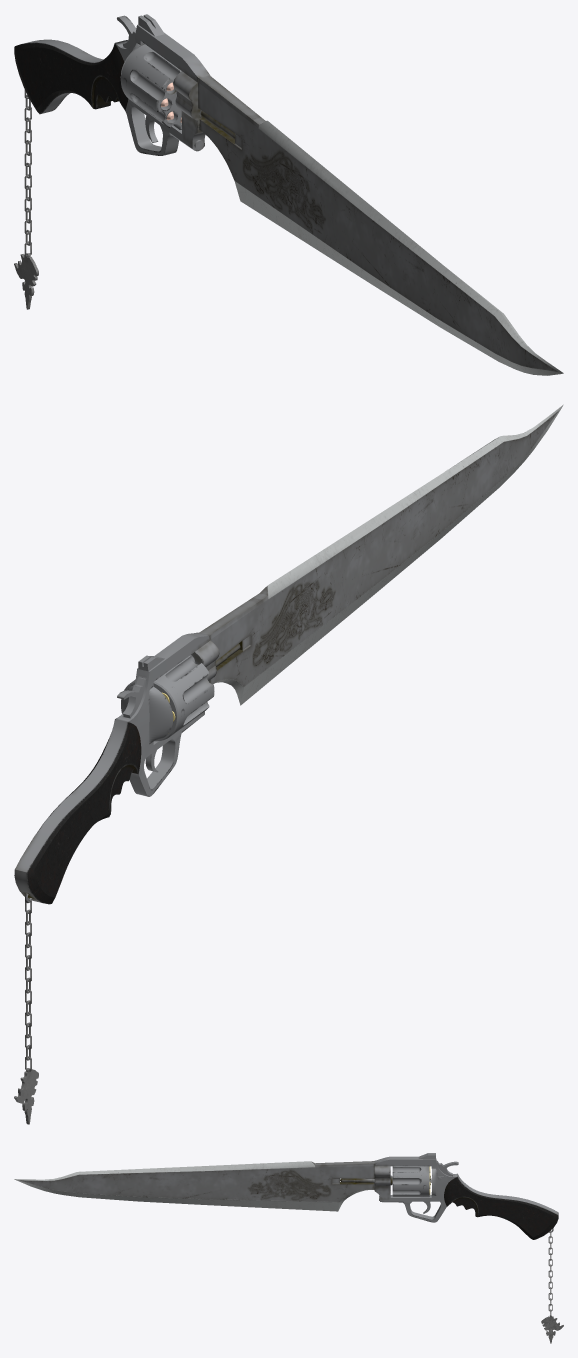
The picture shows the model from 3 angles, top to bottom: view 1: azimuth 30°, elevation 25°; view 2: azimuth 150°, elevation 25°; view 3: azimuth 270°, elevation 25°; orthographic projection. The views are drawn at different scales.
Visible parts, largest first — view 1: main_low, barrel_low, lion_low; view 2: main_low, barrel_low; view 3: main_low, barrel_low, lion_low.
Boxes of the visible parts, left/top/right/bottom form: main_low: left=14, top=14, right=563, bottom=375; barrel_low: left=120, top=44, right=181, bottom=129; lion_low: left=14, top=253, right=38, bottom=309; main_low: left=14, top=404, right=563, bottom=904; barrel_low: left=121, top=655, right=214, bottom=741; main_low: left=14, top=1153, right=558, bottom=1239; barrel_low: left=392, top=1166, right=431, bottom=1197; lion_low: left=541, top=1315, right=563, bottom=1343.
Size of the model in its own units: 1.82 by 11.4 by 30.01.
1 material, 1 textured.
